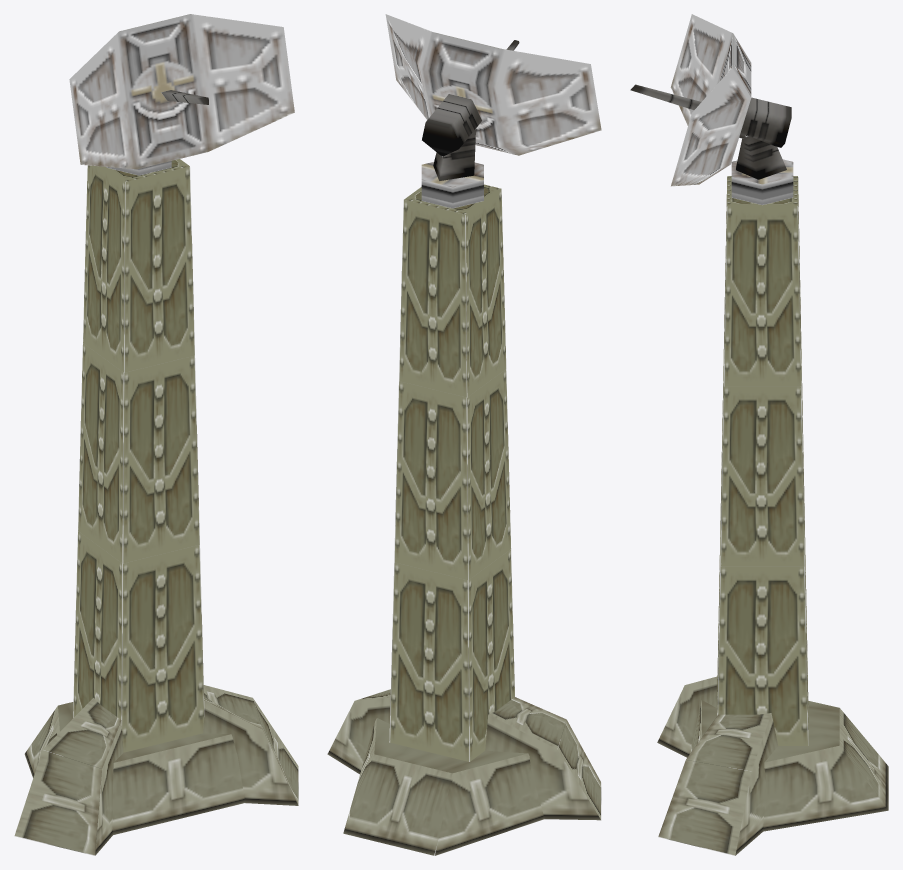
The model's file is sensortower.glb.
3 renders of one model, left to right at view 1: azimuth 30°, elevation 25°; view 2: azimuth 150°, elevation 25°; view 3: azimuth 270°, elevation 25°, orthographic. The views are drawn at different scales.
Visible parts, largest first — view 1: SensorTower, Sensordish; view 2: SensorTower, Sensordish, Sensorpivot; view 3: SensorTower, Sensordish, Sensorpivot.
Part boxes in pixels (bbox=[...]): SensorTower: bbox=[14, 159, 298, 855]; Sensordish: bbox=[69, 14, 294, 169]; SensorTower: bbox=[327, 184, 601, 855]; Sensordish: bbox=[385, 14, 601, 156]; Sensorpivot: bbox=[421, 129, 483, 208]; SensorTower: bbox=[657, 176, 888, 855]; Sensordish: bbox=[630, 14, 791, 186]; Sensorpivot: bbox=[731, 135, 793, 205].
Size of the model in its own units: 7.15 by 18.69 by 5.93.
1 material, 1 textured.
